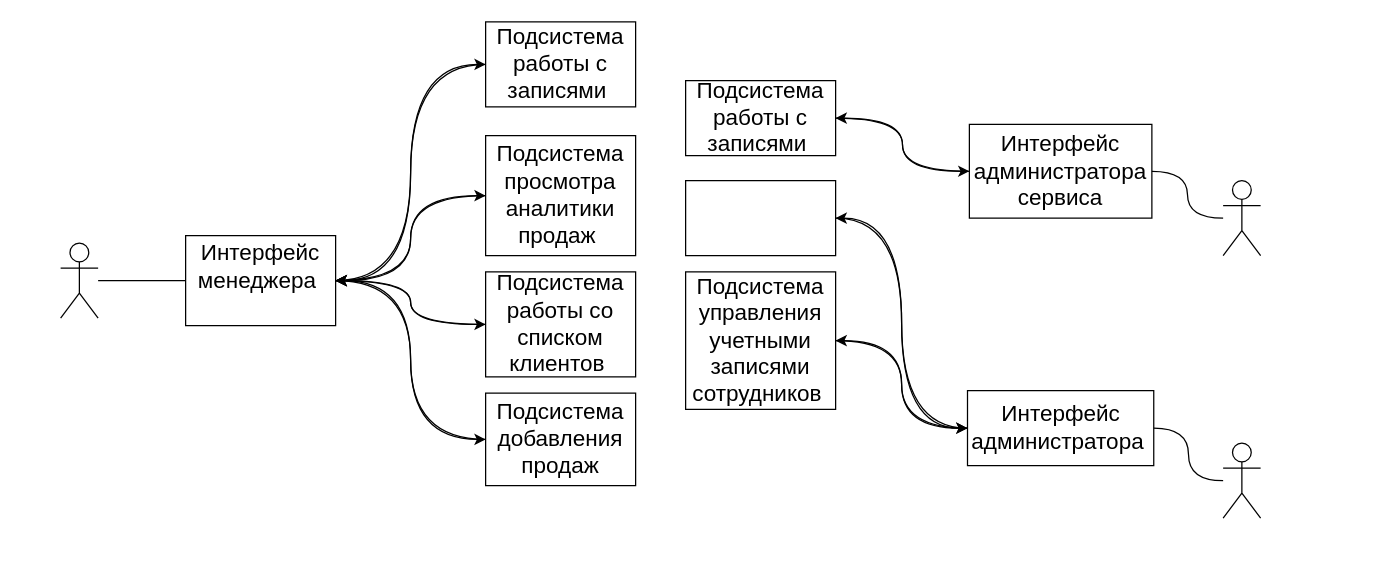
Some shapes in this 1393 by 576 pixel diagram are drawn without their labels. The shapes that lost their labels are listed below. From the top down, each one's centre as x and y in pixels, then its label:
At (760,217): "Подсистема управления каталогом".
At (1241,217): "Администратор сервиса".
At (78,280): "Менеджер".
At (1241,480): "Администратор".
